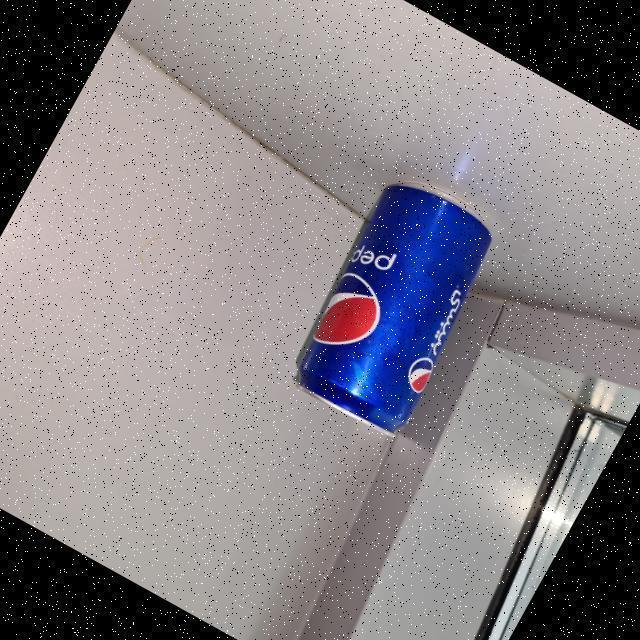metal-can: (288, 179, 497, 437)
